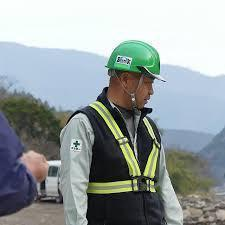helmet: (101, 38, 160, 81)
